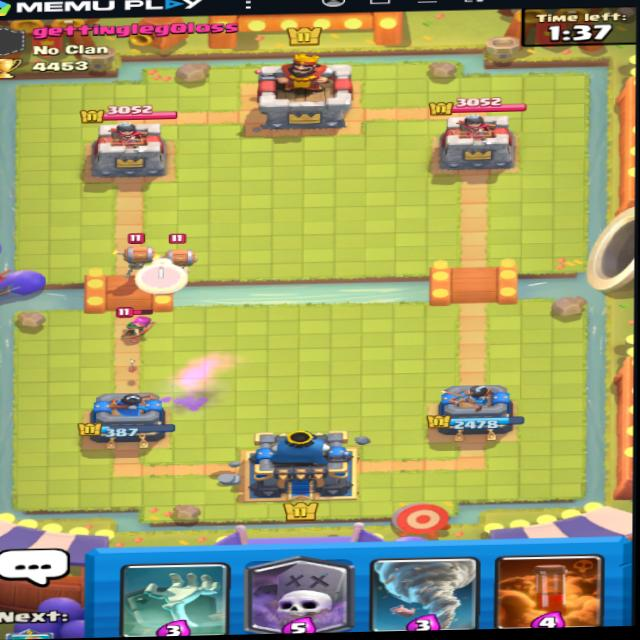Archer: (104, 300, 155, 343)
Wallbreakers: (113, 231, 154, 274), (163, 229, 200, 271)
